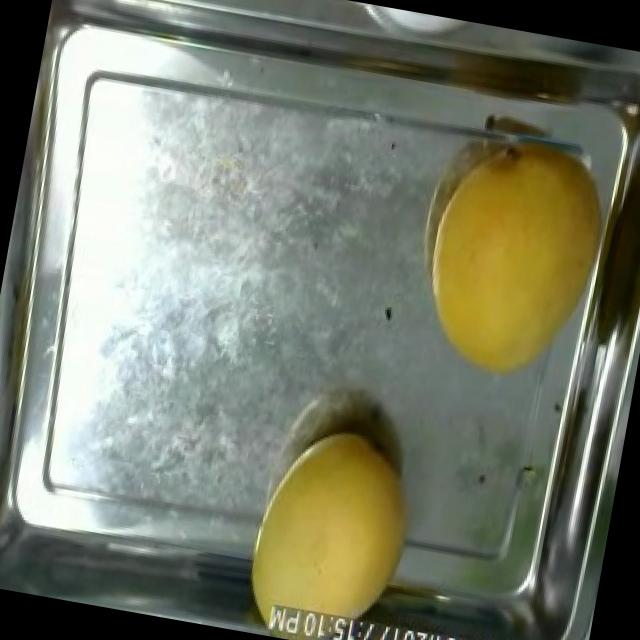fruit: (398, 117, 634, 405), (234, 406, 436, 638)
